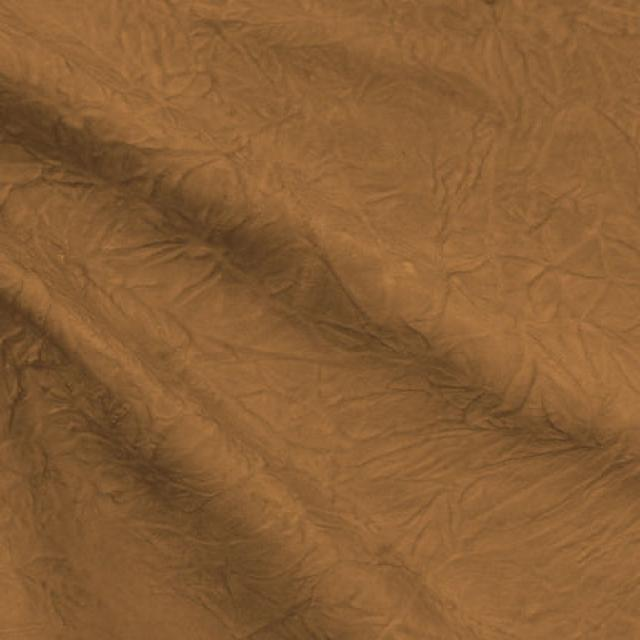Crease: (46, 74, 229, 210), (15, 268, 145, 402)
